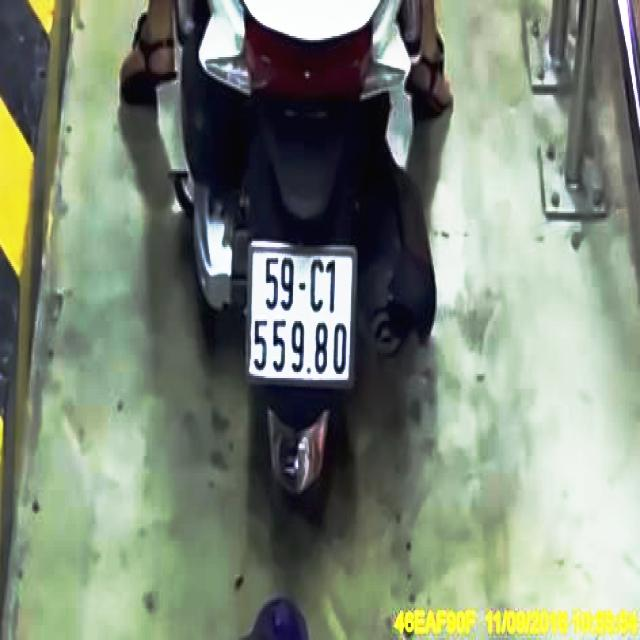license_plate: (249, 247, 355, 380)
